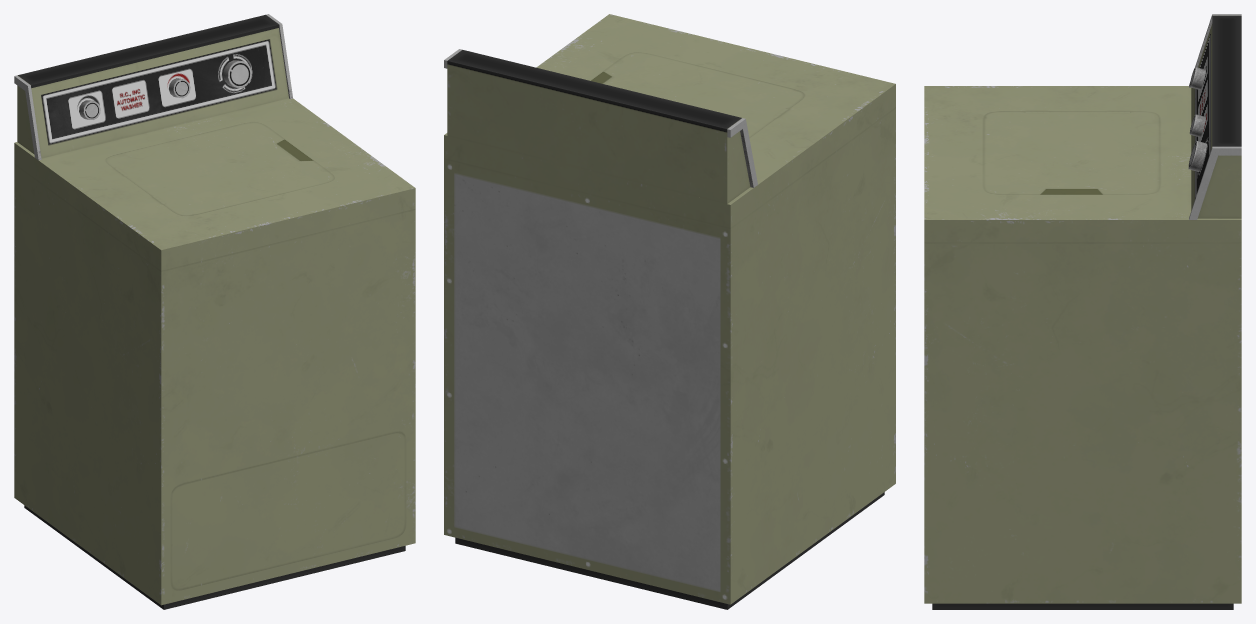
File: Washer.fbx
3 views of the same model, side by side, from view 1: azimuth 30°, elevation 25°; view 2: azimuth 150°, elevation 25°; view 3: azimuth 270°, elevation 25° (orthographic). The views are drawn at different scales.
Visible parts, largest first — view 1: Washer; view 2: Washer; view 3: Washer.
Boxes of the visible parts, x1,y1,x2,y2 form: Washer: [14, 14, 415, 609]; Washer: [444, 14, 895, 609]; Washer: [924, 14, 1241, 609].
Bounding box in the file's own units: 60 × 97 × 60.
